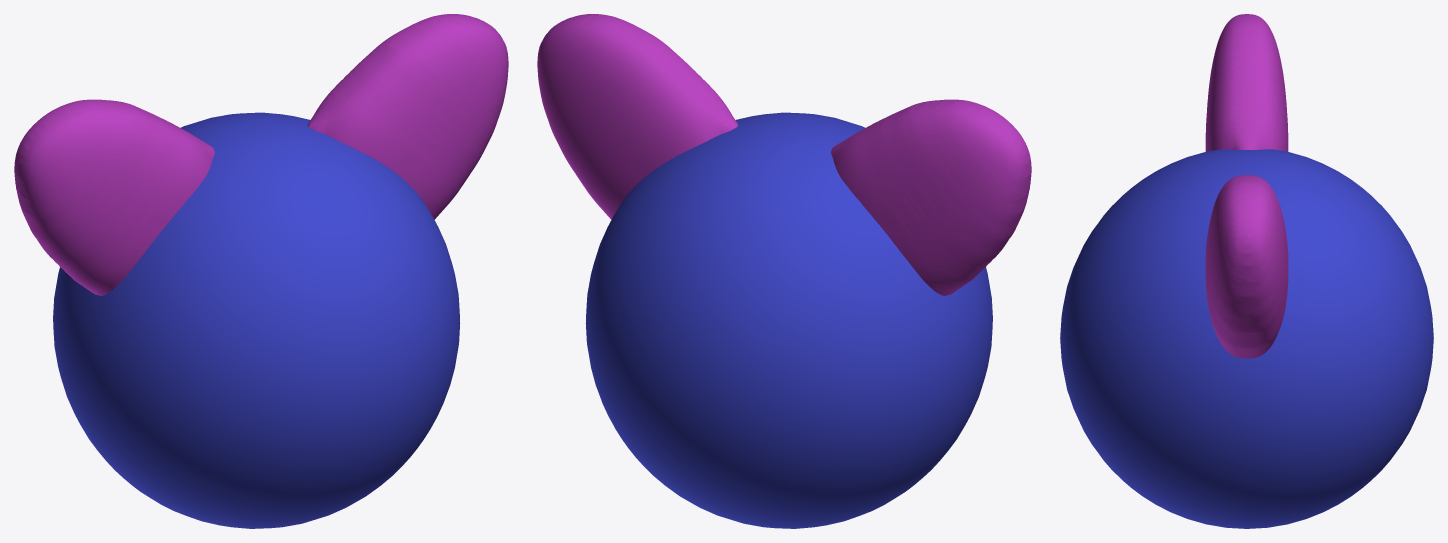
The model's file is Animal.fbx.
3 views of the same model, side by side, from view 1: azimuth 30°, elevation 25°; view 2: azimuth 150°, elevation 25°; view 3: azimuth 270°, elevation 25° (orthographic). The views are drawn at different scales.
Visible parts, largest first — view 1: root (×3); view 2: root (×3); view 3: root (×3).
Boxes of the visible parts, box(x1,y1,x2,y2) form: root (×3): box(14, 14, 508, 528); root (×3): box(537, 14, 1031, 528); root (×3): box(1060, 14, 1433, 528).
Bounding box in the file's own units: 0.4402 × 0.3881 × 0.3192.
Materials: 3 (2 with a texture image).
